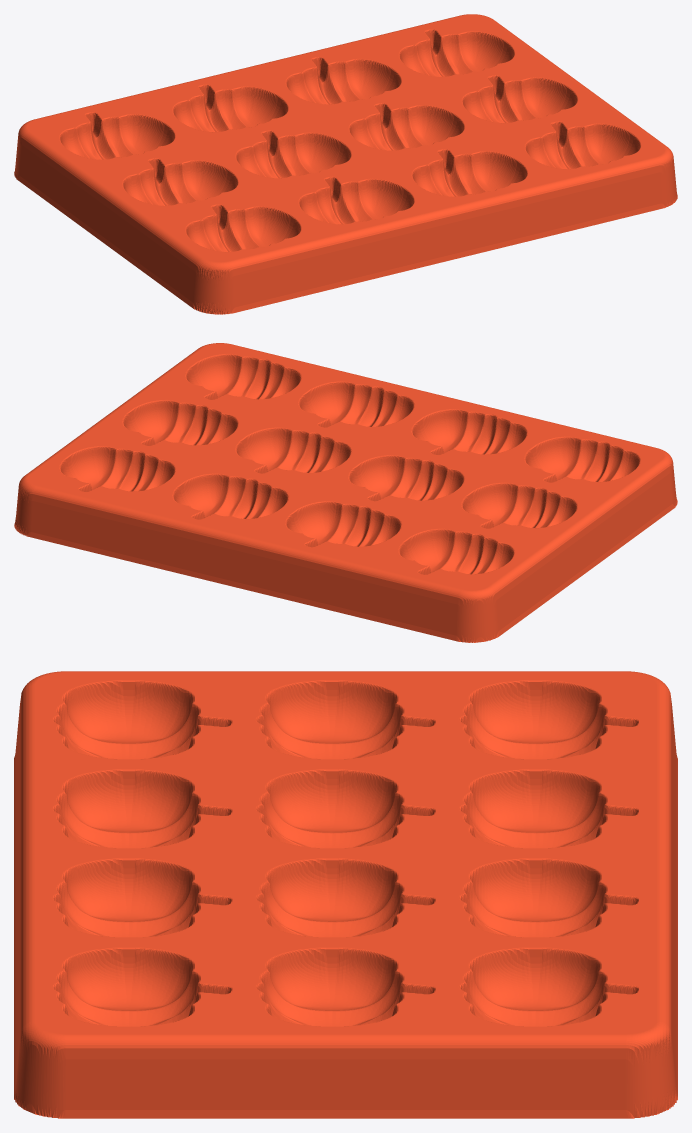
File: mold.glb
3 renders of one model, top to bottom at view 1: azimuth 30°, elevation 25°; view 2: azimuth 150°, elevation 25°; view 3: azimuth 270°, elevation 25°, orthographic. The views are drawn at different scales.
Parts seen in each view (by area): view 1: geometry_0; view 2: geometry_0; view 3: geometry_0.
Part boxes in pixels (box(x1,y1,x2,y2)): geometry_0: box(14, 14, 677, 314); geometry_0: box(14, 343, 677, 642); geometry_0: box(14, 671, 677, 1118).
Bounding box in the file's own units: 0.1558 × 0.0145 × 0.1153.
